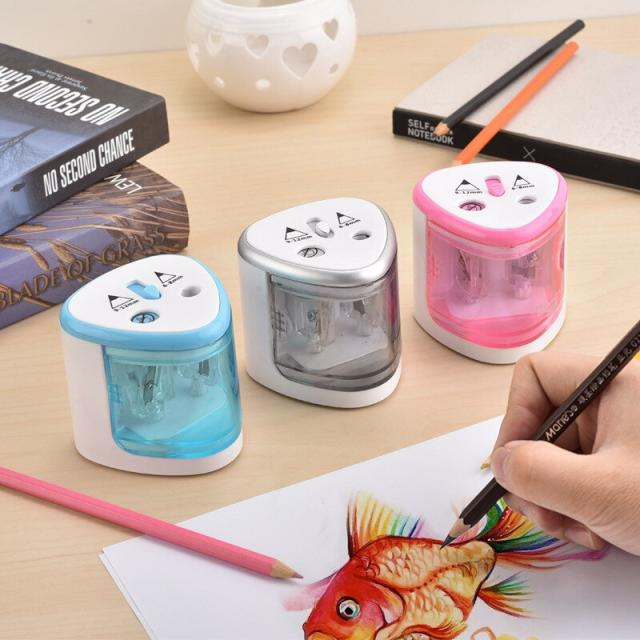pencil_sharpener: (240, 177, 410, 421)
